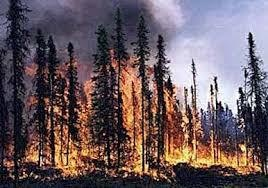fire: (43, 47, 262, 174)
